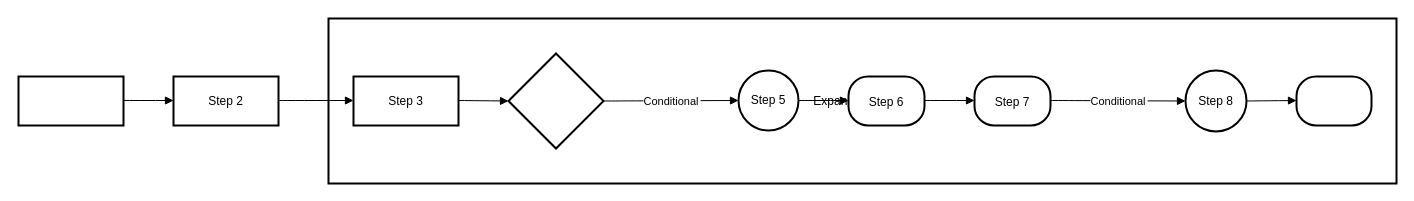
The diagram is 1414 pixels wide and 201 high, and some of its shapes have lost their labels. Each missing label, with the box of its shape:
Step 1: (17, 75, 124, 126)
Step 4: (507, 52, 604, 149)
Step 9: (1295, 75, 1372, 126)
